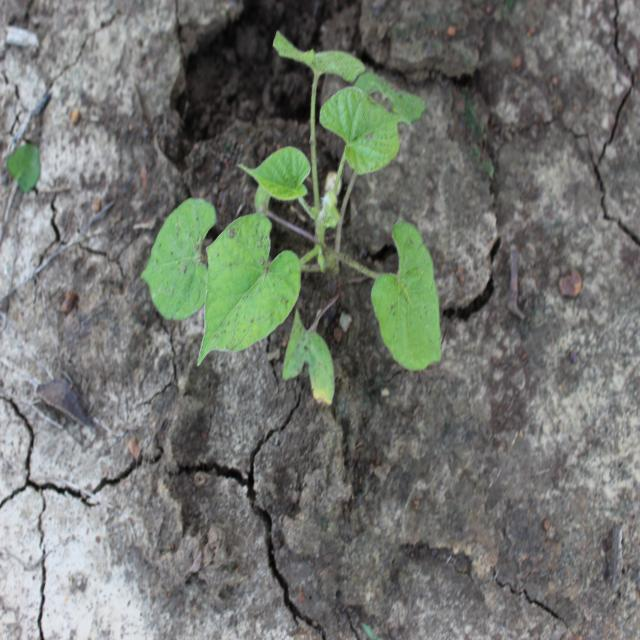MorningGlory: (138, 28, 445, 408)
